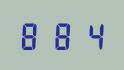eight: (18, 20, 46, 50), (48, 20, 76, 50)
four: (77, 20, 105, 50)
